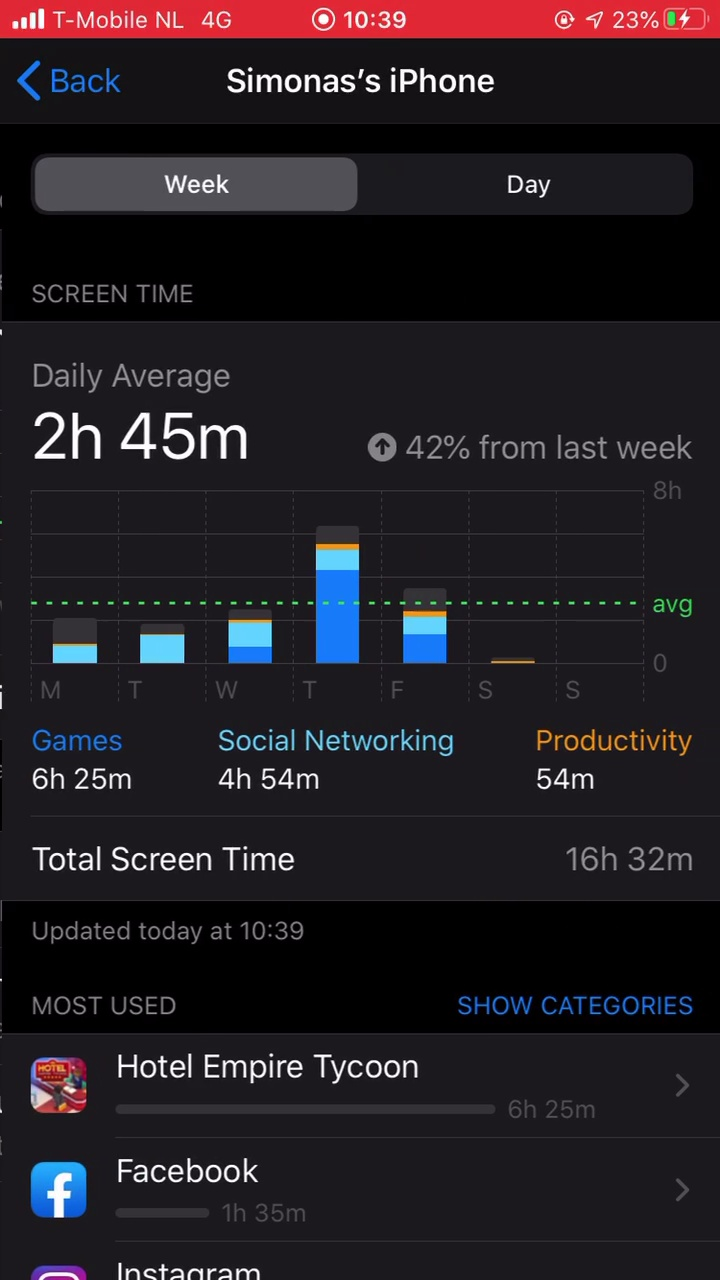use_over: (14, 721, 709, 885)
